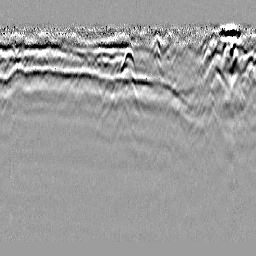cavity: (120, 46, 137, 73)
